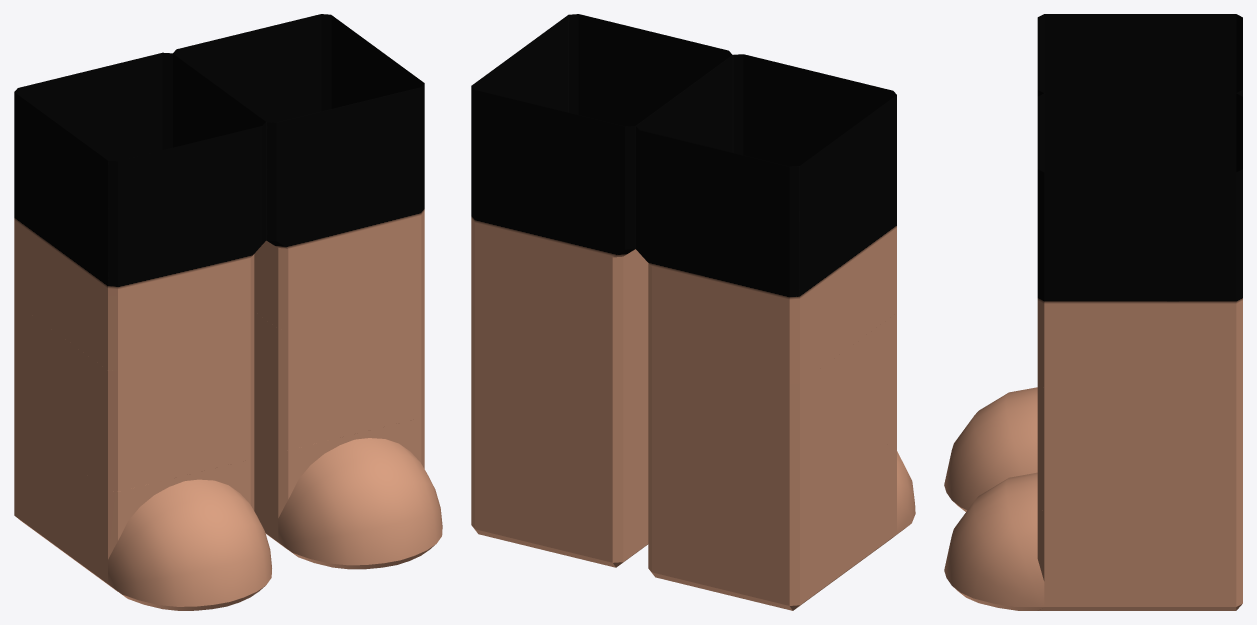
The model's file is Man_Legs.glb.
The picture shows the model from 3 angles, left to right: view 1: azimuth 30°, elevation 25°; view 2: azimuth 150°, elevation 25°; view 3: azimuth 270°, elevation 25°; orthographic projection. The views are drawn at different scales.
Parts seen in each view (by area): view 1: 3.0 Man.004; view 2: 3.0 Man.004; view 3: 3.0 Man.004.
Part boxes in pixels (left/top/right/bottom): 3.0 Man.004: left=14, top=14, right=442, bottom=610; 3.0 Man.004: left=471, top=14, right=915, bottom=610; 3.0 Man.004: left=944, top=14, right=1242, bottom=610.
Bounding box in the file's own units: 1.56 × 2.03 × 1.24.
Materials: 1 (1 with a texture image).
